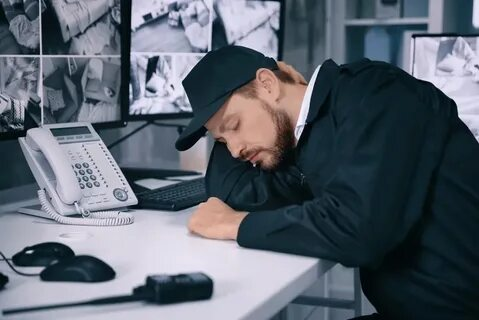sleep: (174, 44, 478, 320)
